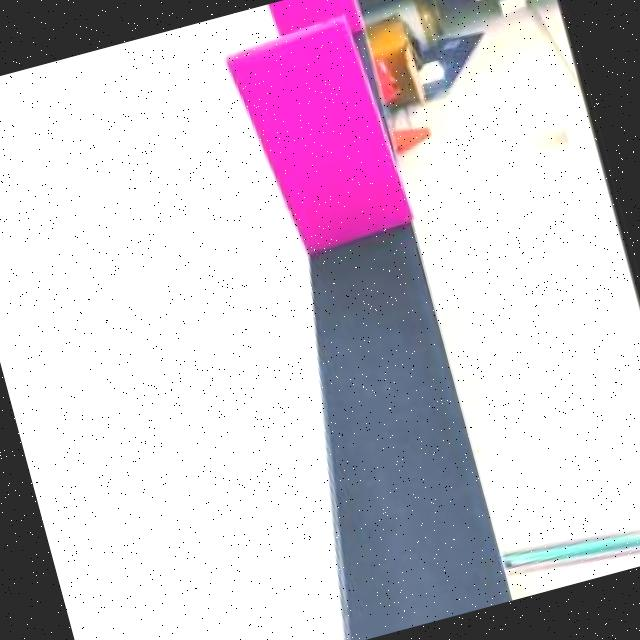xparking: (243, 21, 394, 251), (260, 0, 359, 27)
